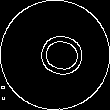O_W: (26, 28, 84, 82)
